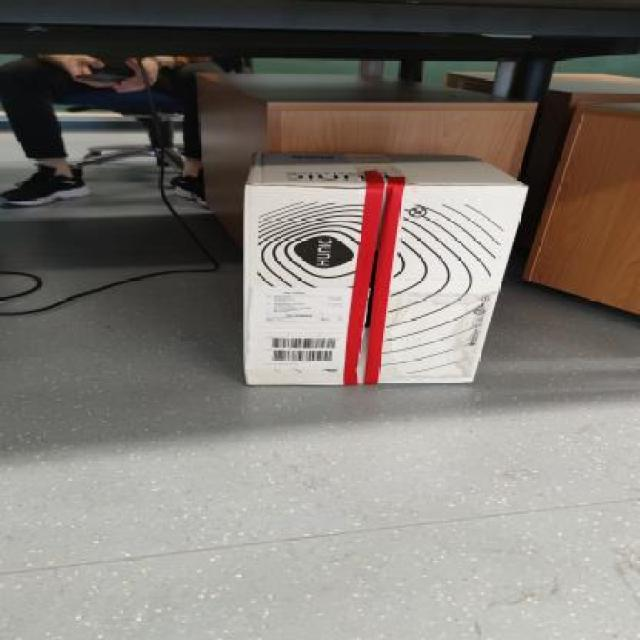box: (148, 127, 612, 413)
